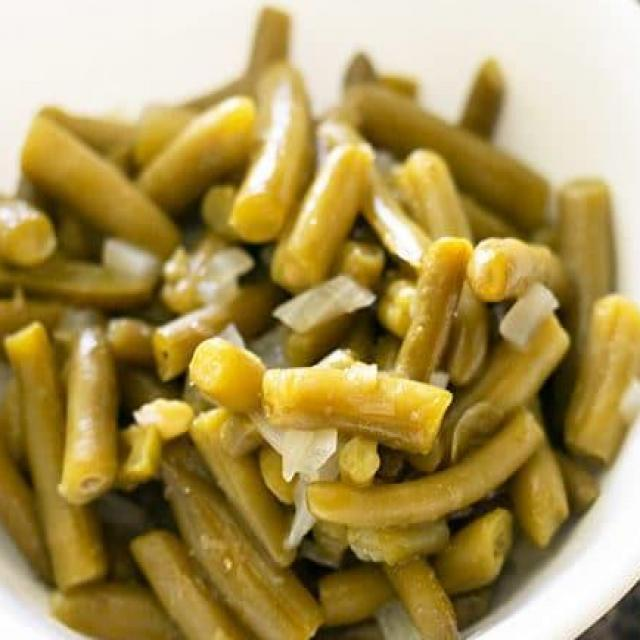Beans: (0, 5, 639, 639)
